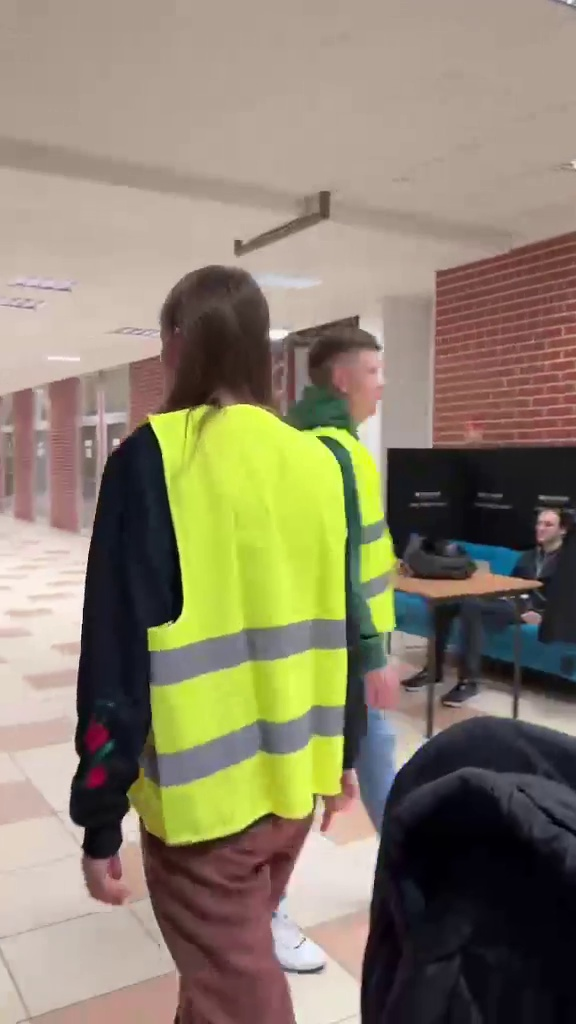no vest: (426, 482, 570, 698)
vest: (67, 243, 331, 1014), (295, 324, 419, 822)
